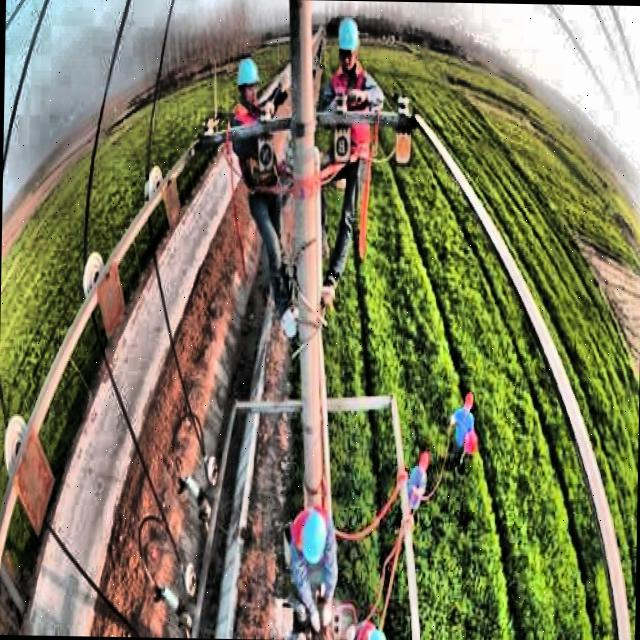helmet: (291, 508, 329, 570), (233, 54, 264, 111), (332, 14, 362, 72)
